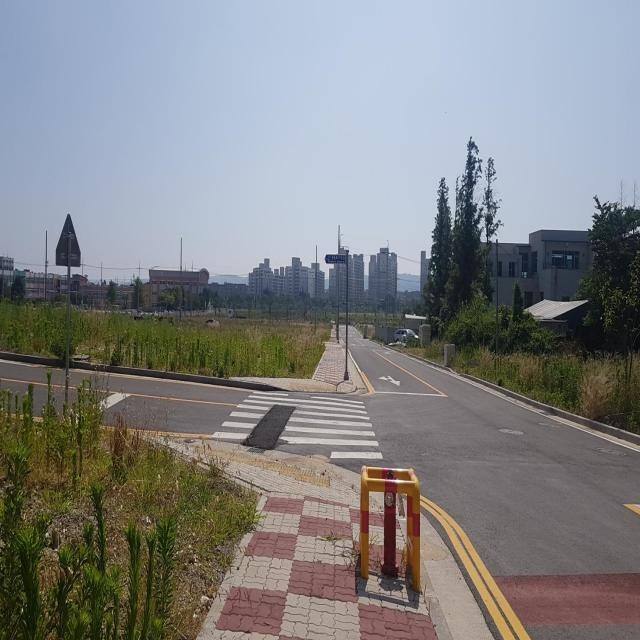횡단보도: (212, 389, 384, 460)
